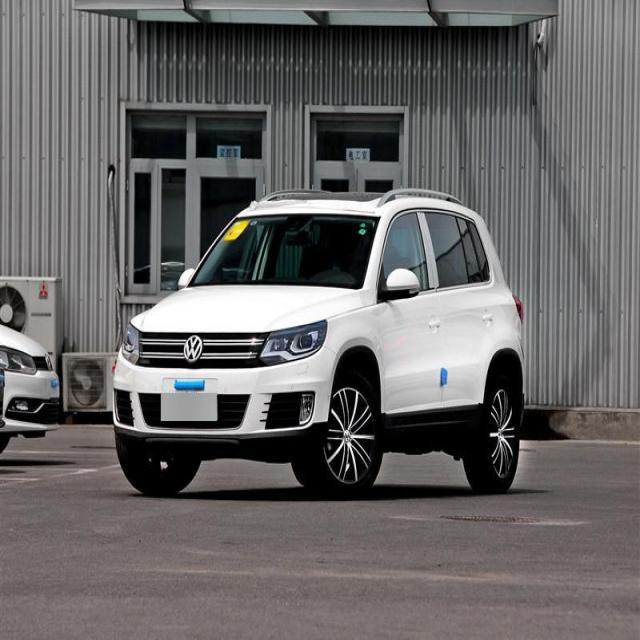back_left_side_light: (511, 290, 526, 329)
door: (425, 206, 494, 412)
front_bumper: (111, 346, 337, 450)
front_glass: (189, 213, 380, 288)
front_left_side_door: (373, 203, 445, 434)
front_left_side_light: (258, 318, 328, 368)
front_left_side_mirror: (379, 266, 421, 302)
front_right_side_light: (119, 319, 141, 366)
front_right_side_mirror: (177, 266, 195, 294)
wheel: (299, 375, 383, 492), (464, 378, 518, 490), (115, 431, 201, 497)
